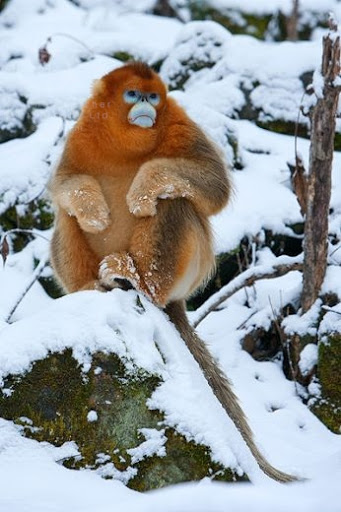GoldenSnub-Nosed: (50, 61, 231, 308)
